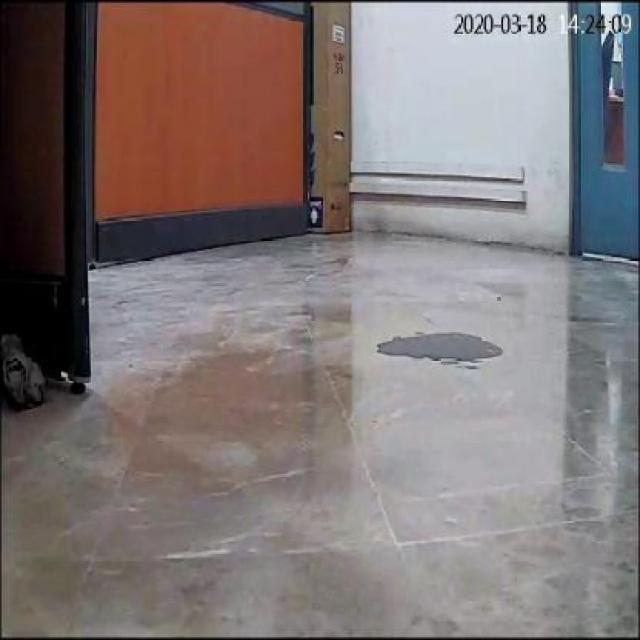spill: (370, 325, 501, 363)
